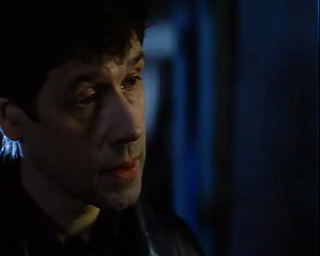cu: (1, 1, 320, 256)
face: (45, 31, 147, 210)
person: (1, 1, 207, 256)
